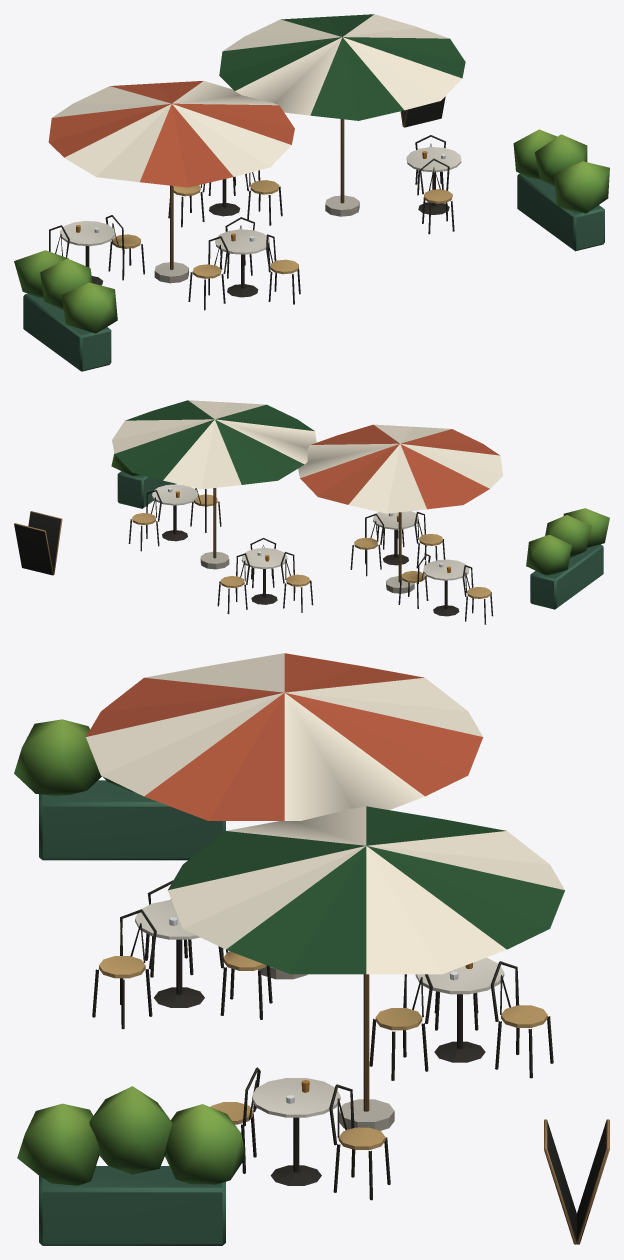
File: cafe_terrace.glb
3 renders of one model, top to bottom at view 1: azimuth 30°, elevation 25°; view 2: azimuth 150°, elevation 25°; view 3: azimuth 270°, elevation 25°, orthographic. The views are drawn at different scales.
Parts seen in each view (by area): view 1: cafe_terrace_mesh; view 2: cafe_terrace_mesh; view 3: cafe_terrace_mesh.
Boxes of the visible parts, <box> form: cafe_terrace_mesh: <box>14,14,609,371</box>; cafe_terrace_mesh: <box>14,400,609,624</box>; cafe_terrace_mesh: <box>14,653,609,1245</box>.
Bounding box in the file's own units: 8.6 × 2.6 × 5.1.
